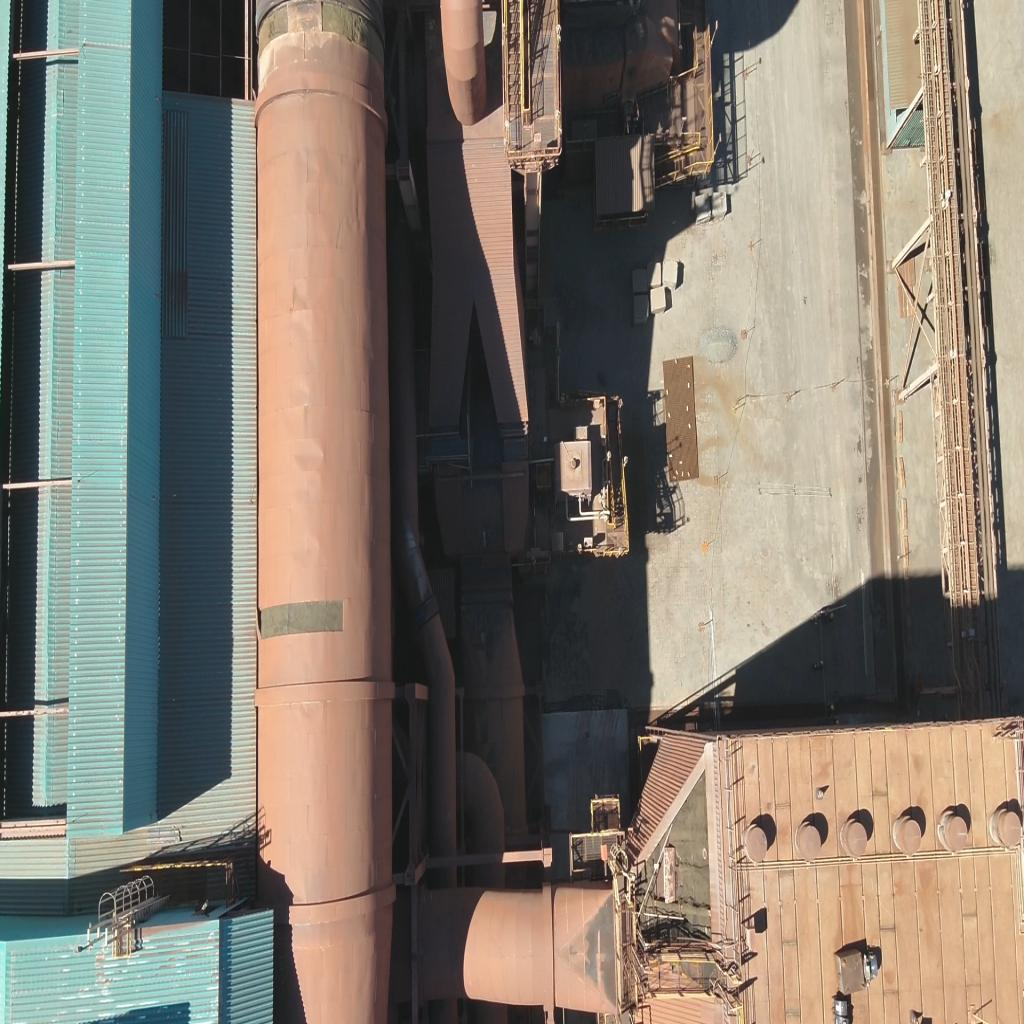Failures: (647, 782, 714, 977), (252, 0, 383, 66), (253, 599, 343, 651)
